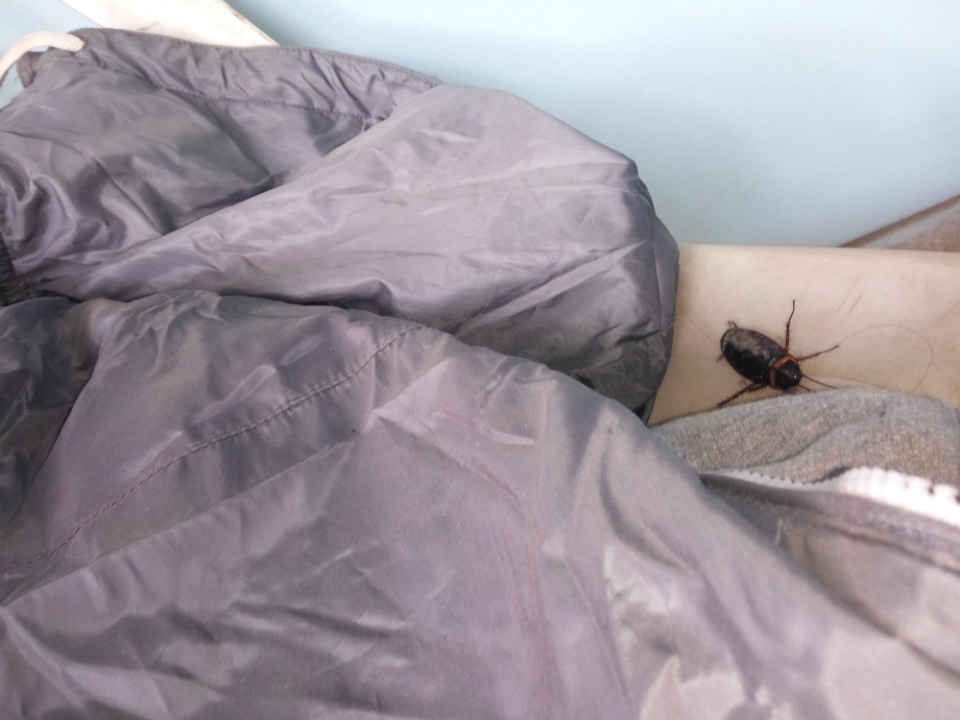cockroach: (689, 297, 853, 399)
